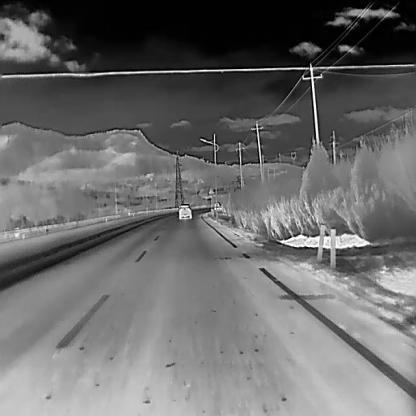car: (177, 203, 192, 219), (213, 202, 218, 210)
